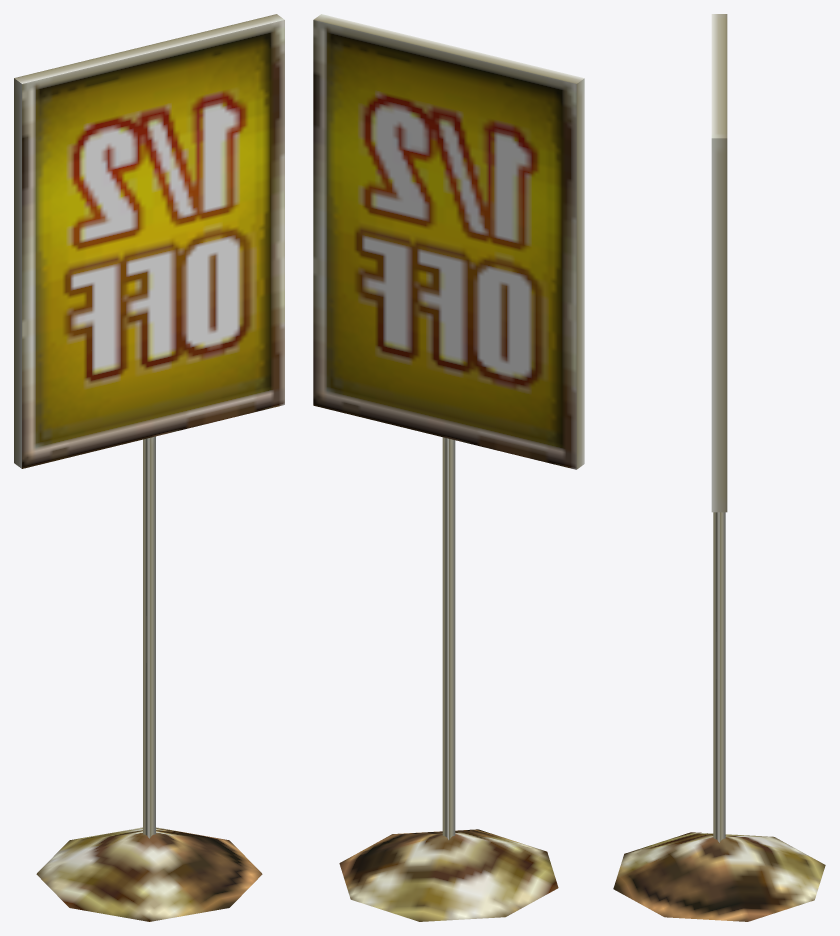
The model's file is sale_generic_freestanding01.fbx.
3 renders of one model, left to right at view 1: azimuth 30°, elevation 25°; view 2: azimuth 150°, elevation 25°; view 3: azimuth 270°, elevation 25°, orthographic. The views are drawn at different scales.
Visible parts, largest first — view 1: mesh_0; view 2: mesh_0; view 3: mesh_0.
Boxes of the visible parts, x1,y1,x2,y2 form: mesh_0: (14, 14, 284, 921); mesh_0: (313, 14, 584, 921); mesh_0: (613, 14, 825, 921).
Size of the model in its own units: 50 by 150 by 36.06.
Materials: 1 (1 with a texture image).
